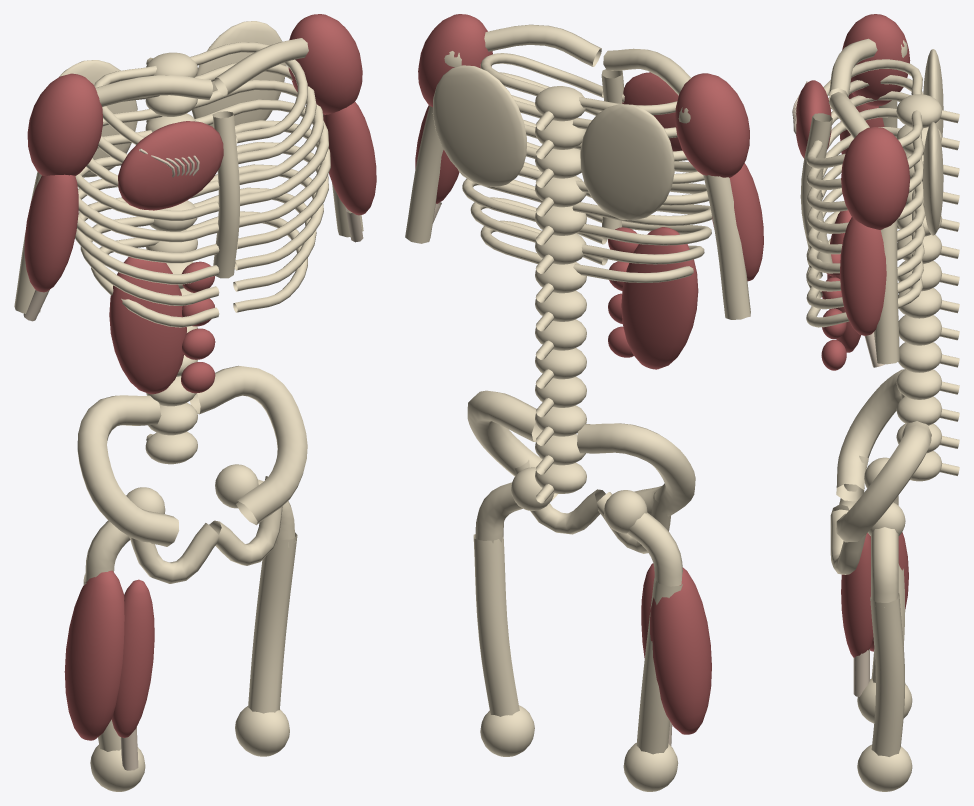
The model's file is musculoskeletal.glb.
The picture shows the model from 3 angles, left to right: view 1: azimuth 30°, elevation 25°; view 2: azimuth 150°, elevation 25°; view 3: azimuth 270°, elevation 25°; orthographic projection. The views are drawn at different scales.
Visible parts, largest first — view 1: Vertebral body; view 2: Vertebral body; view 3: Vertebral body.
Boxes of the visible parts, x1,y1,x2,y2 form: Vertebral body: (14,14,376,791); Vertebral body: (405,14,763,791); Vertebral body: (792,14,959,791).
Size of the model in its own units: 1.63 by 3.27 by 0.7275.
